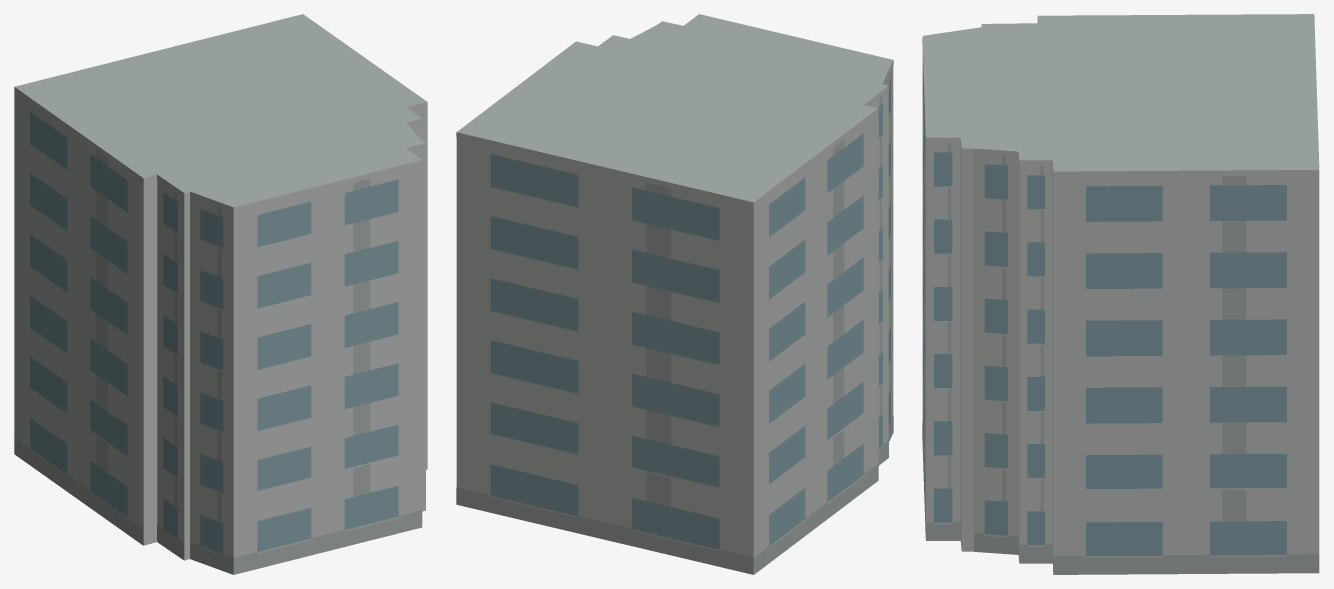
The model's file is survey-upis-32576385.glb.
3 views of the same model, side by side, from view 1: azimuth 30°, elevation 25°; view 2: azimuth 150°, elevation 25°; view 3: azimuth 270°, elevation 25° (orthographic). The views are drawn at different scales.
Visible parts, largest first — view 1: survey-upis-32576385.tmp; view 2: survey-upis-32576385.tmp; view 3: survey-upis-32576385.tmp.
Part boxes in pixels (x1=…): survey-upis-32576385.tmp: x1=14, y1=14, x2=427, y2=574; survey-upis-32576385.tmp: x1=456, y1=14, x2=893, y2=574; survey-upis-32576385.tmp: x1=922, y1=14, x2=1319, y2=574.
Bounding box in the file's own units: 14.51 × 17.3 × 15.44.
